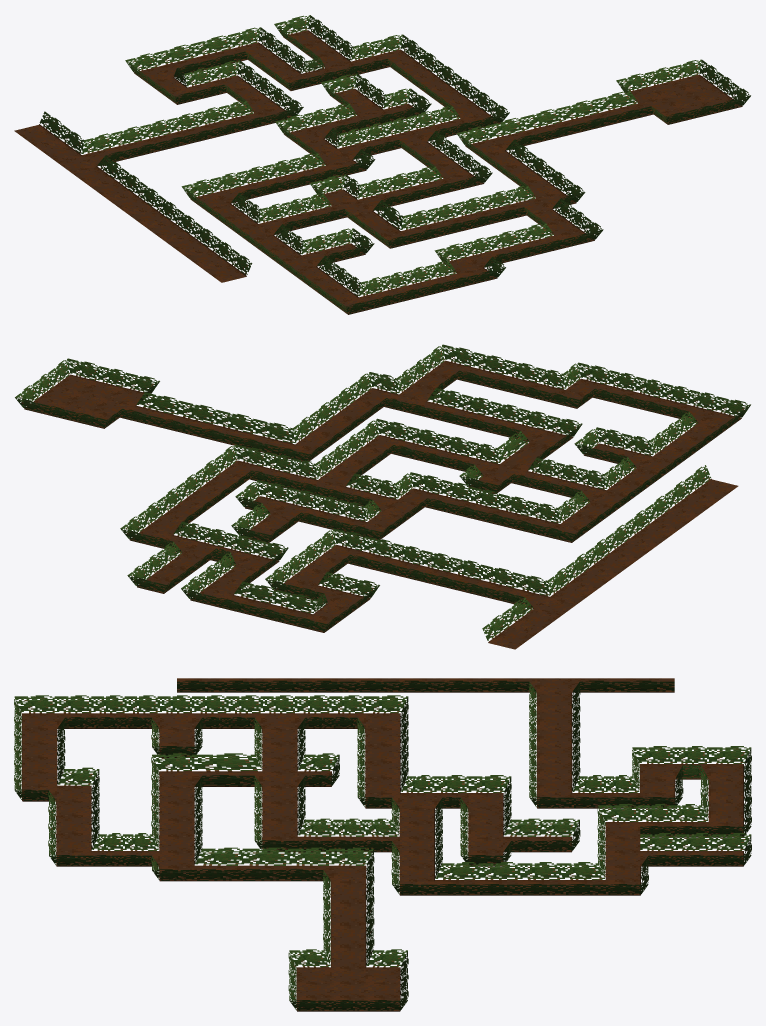
The model's file is maze.glb.
3 views of the same model, one above another, from view 1: azimuth 30°, elevation 25°; view 2: azimuth 150°, elevation 25°; view 3: azimuth 270°, elevation 25° (orthographic). The views are drawn at different scales.
Parts seen in each view (by area): view 1: maze-col; view 2: maze-col; view 3: maze-col.
Part boxes in pixels (bbox=[...]): maze-col: bbox=[14, 15, 750, 314]; maze-col: bbox=[15, 344, 750, 649]; maze-col: bbox=[14, 678, 751, 1011].
Bounding box in the file's own units: 46.49 × 1 × 43.
2 materials, 2 textured.
